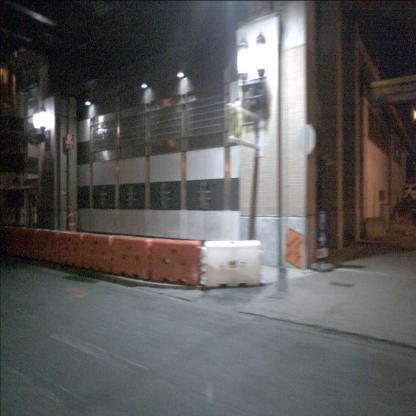barrier: (198, 242, 263, 288), (148, 239, 203, 286), (112, 234, 151, 280), (80, 232, 112, 276), (57, 231, 82, 269), (17, 226, 40, 262), (38, 228, 59, 264), (0, 225, 20, 258)
cone: (68, 214, 76, 250), (395, 210, 399, 224)
